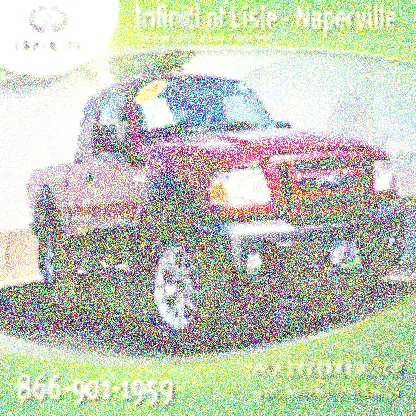Vehicle: (27, 70, 409, 356)
